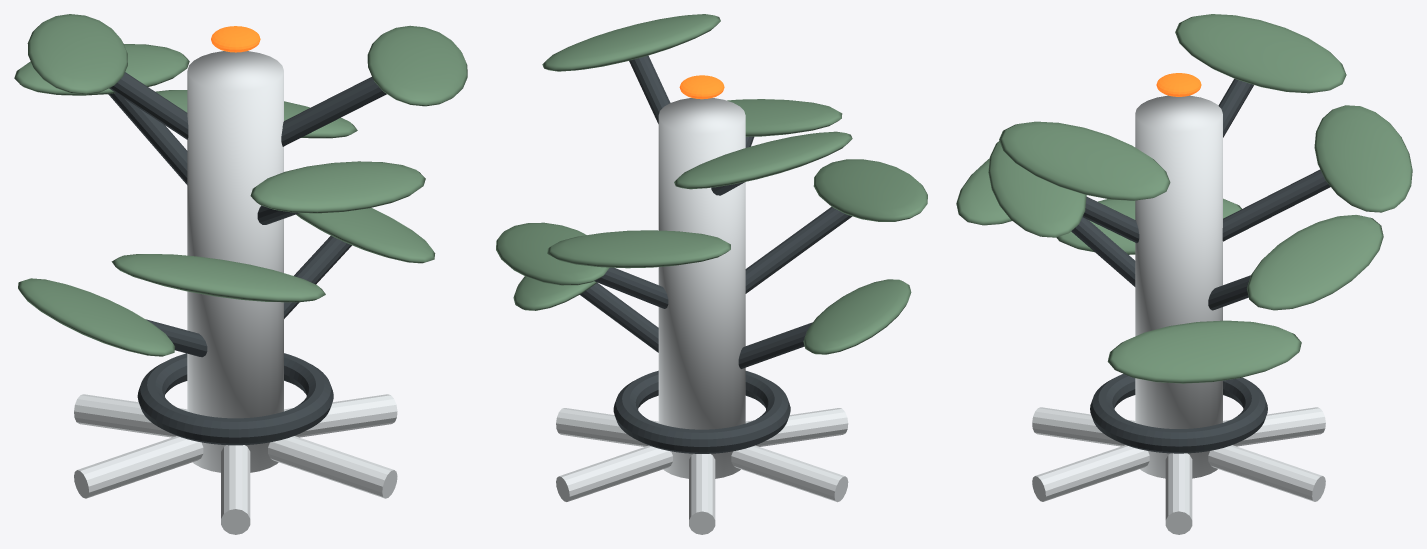
The model's file is data-flora.glb.
3 renders of one model, left to right at view 1: azimuth 30°, elevation 25°; view 2: azimuth 150°, elevation 25°; view 3: azimuth 270°, elevation 25°, orthographic. The views are drawn at different scales.
Parts seen in each view (by area): view 1: Flora_Trunk, Flora_DataCollar, Flora_Leaf_07, Flora_Leaf_06, Flora_Leaf_08, Flora_Leaf_04, Flora_Leaf_05, Flora_Leaf_01, Flora_Root_04, Flora_Root_06, Flora_Leaf_03, Flora_Root_05 (+9 smaller); view 2: Flora_Trunk, Flora_DataCollar, Flora_Leaf_03, Flora_Leaf_06, Flora_Leaf_08, Flora_Leaf_04, Flora_Leaf_05, Flora_Leaf_02, Flora_Root_02, Flora_Root_04, Flora_Leaf_07, Flora_Branch_06 (+9 smaller); view 3: Flora_Trunk, Flora_Leaf_01, Flora_Leaf_04, Flora_Leaf_08, Flora_Leaf_02, Flora_Leaf_03, Flora_DataCollar, Flora_Leaf_07, Flora_Root_02, Flora_Root_06, Flora_Branch_03, Flora_Root_01 (+9 smaller).
Part boxes in pixels (x1,y1,x2,y2): Flora_Trunk: (187, 51, 283, 472); Flora_DataCollar: (137, 353, 333, 445); Flora_Leaf_07: (250, 161, 425, 213); Flora_Leaf_06: (111, 254, 325, 302); Flora_Leaf_08: (367, 25, 467, 106); Flora_Leaf_04: (27, 14, 127, 94); Flora_Leaf_05: (18, 278, 174, 356); Flora_Leaf_01: (296, 208, 435, 263); Flora_Root_04: (74, 436, 203, 498); Flora_Root_06: (268, 436, 397, 498); Flora_Leaf_03: (14, 43, 189, 95); Flora_Root_05: (221, 445, 250, 534); Flora_Trunk: (658, 98, 745, 478); Flora_DataCollar: (613, 370, 790, 453); Flora_Leaf_03: (547, 230, 730, 268); Flora_Leaf_06: (813, 159, 927, 221); Flora_Leaf_08: (542, 14, 720, 71); Flora_Leaf_04: (674, 131, 852, 189); Flora_Leaf_05: (803, 279, 911, 354); Flora_Leaf_02: (496, 222, 609, 285); Flora_Root_02: (556, 445, 672, 501); Flora_Root_04: (731, 445, 848, 502); Flora_Leaf_07: (727, 99, 842, 136); Flora_Branch_06: (745, 207, 852, 293); Flora_Trunk: (1135, 95, 1222, 478); Flora_Leaf_01: (1107, 320, 1301, 383); Flora_Leaf_04: (1175, 14, 1346, 93); Flora_Leaf_08: (999, 121, 1170, 200); Flora_Leaf_02: (1247, 215, 1383, 310); Flora_Leaf_03: (1314, 105, 1412, 212); Flora_DataCollar: (1090, 374, 1267, 453); Flora_Leaf_07: (988, 141, 1086, 237); Flora_Root_02: (1208, 445, 1325, 501); Flora_Root_06: (1032, 445, 1149, 501); Flora_Branch_03: (1222, 169, 1330, 241); Flora_Root_01: (1165, 453, 1192, 534).
Size of the model in its own units: 3.02 by 3.14 by 3.33.
